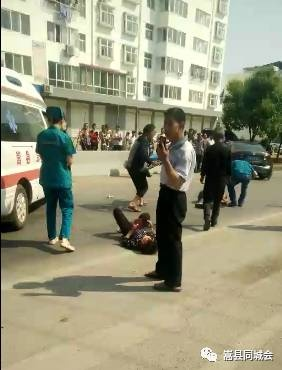falling: (108, 200, 165, 257)
